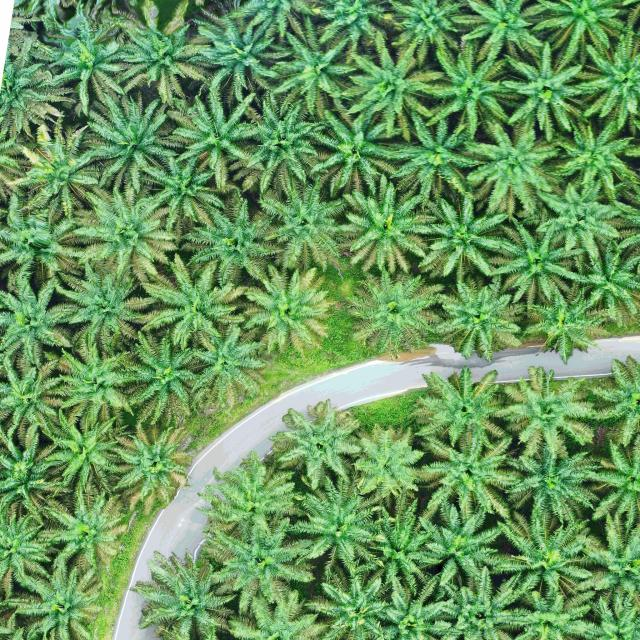Tree: (201, 507, 316, 613), (24, 8, 132, 118), (340, 39, 443, 148), (67, 181, 179, 281), (382, 111, 495, 209), (51, 258, 161, 358), (107, 2, 208, 110), (408, 428, 522, 523), (498, 31, 597, 139), (177, 190, 286, 288), (127, 544, 237, 640), (137, 253, 246, 349), (162, 88, 258, 196), (489, 502, 601, 594), (498, 431, 602, 529), (9, 108, 100, 219), (414, 181, 514, 282), (500, 359, 602, 458), (418, 41, 512, 148), (238, 259, 338, 359), (238, 93, 334, 197), (197, 448, 298, 546), (80, 89, 172, 196), (264, 395, 368, 489), (289, 470, 381, 575), (344, 264, 444, 360), (464, 113, 558, 215), (264, 15, 356, 119), (185, 2, 282, 100), (336, 177, 428, 278), (540, 114, 640, 206), (36, 401, 136, 492), (411, 362, 512, 451), (433, 561, 545, 640), (115, 325, 204, 424), (360, 494, 446, 596), (488, 213, 582, 306), (251, 180, 347, 271), (417, 495, 506, 591), (38, 484, 132, 570), (436, 276, 526, 363), (51, 341, 136, 432), (11, 558, 105, 640), (0, 186, 77, 286), (0, 427, 77, 525), (0, 273, 77, 371), (524, 0, 636, 66), (310, 115, 401, 196), (0, 347, 74, 446), (190, 321, 266, 414), (537, 182, 624, 263), (348, 416, 428, 501), (574, 36, 640, 134), (524, 284, 603, 364), (573, 505, 640, 599), (371, 567, 457, 640), (305, 569, 393, 640), (110, 425, 192, 501), (381, 0, 473, 65), (587, 434, 640, 529), (577, 240, 639, 319), (0, 502, 51, 593)
